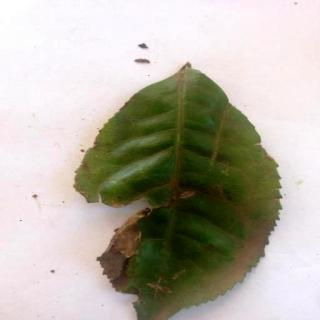Brown Blight: (76, 63, 284, 320)
